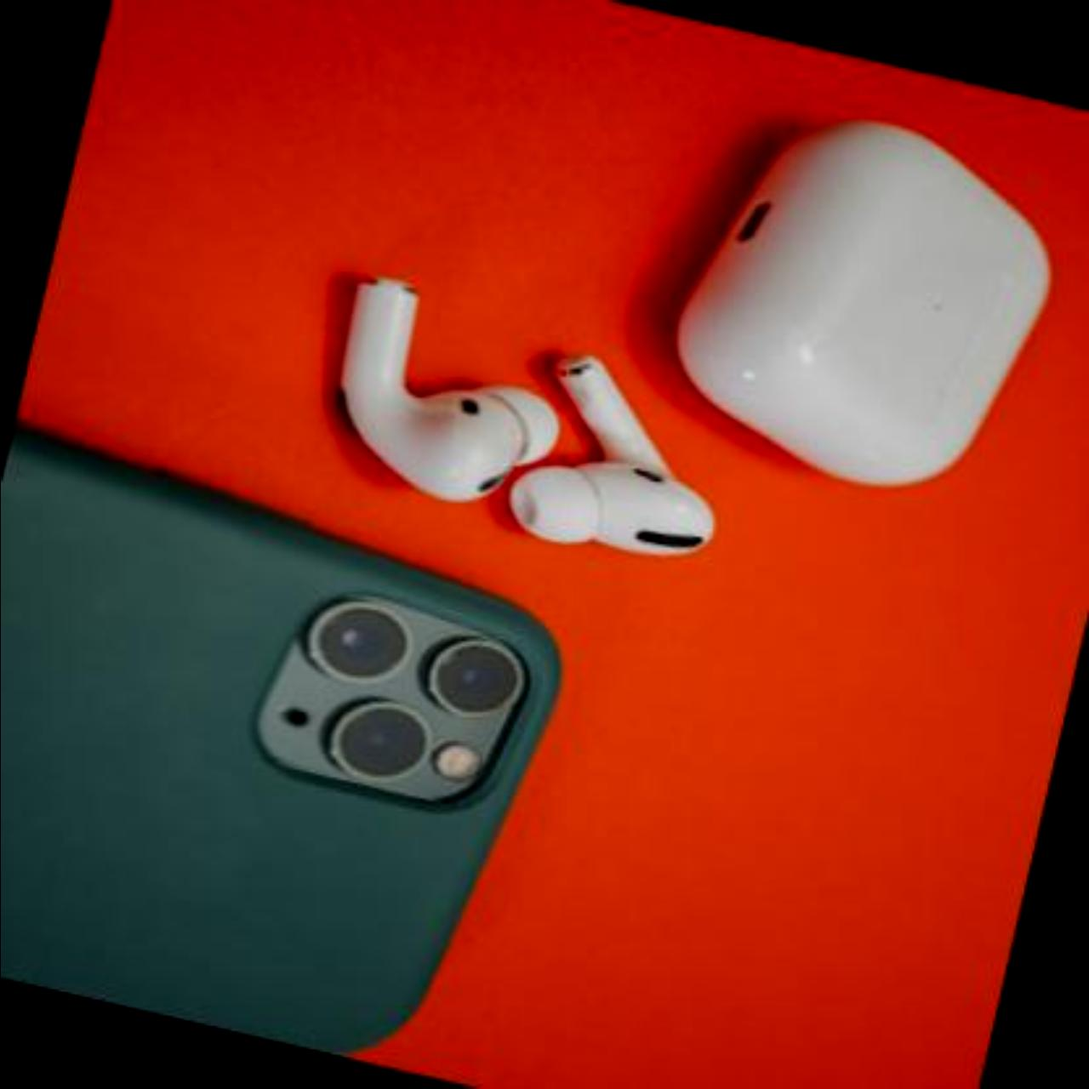Airpods_Units: (287, 262, 556, 563), (499, 329, 734, 590)
